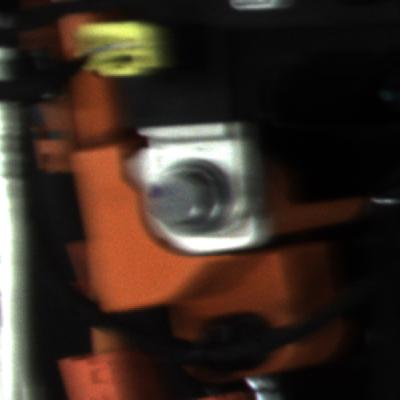nut_b: (148, 155, 233, 234)
